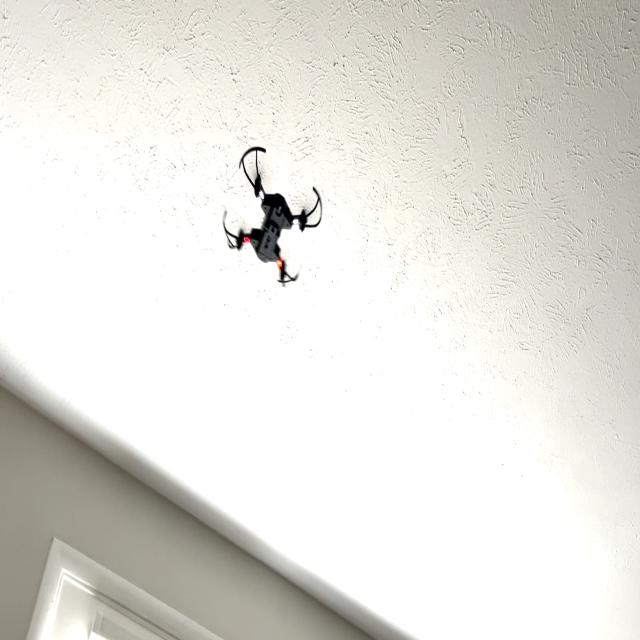drone: (219, 119, 327, 305)
